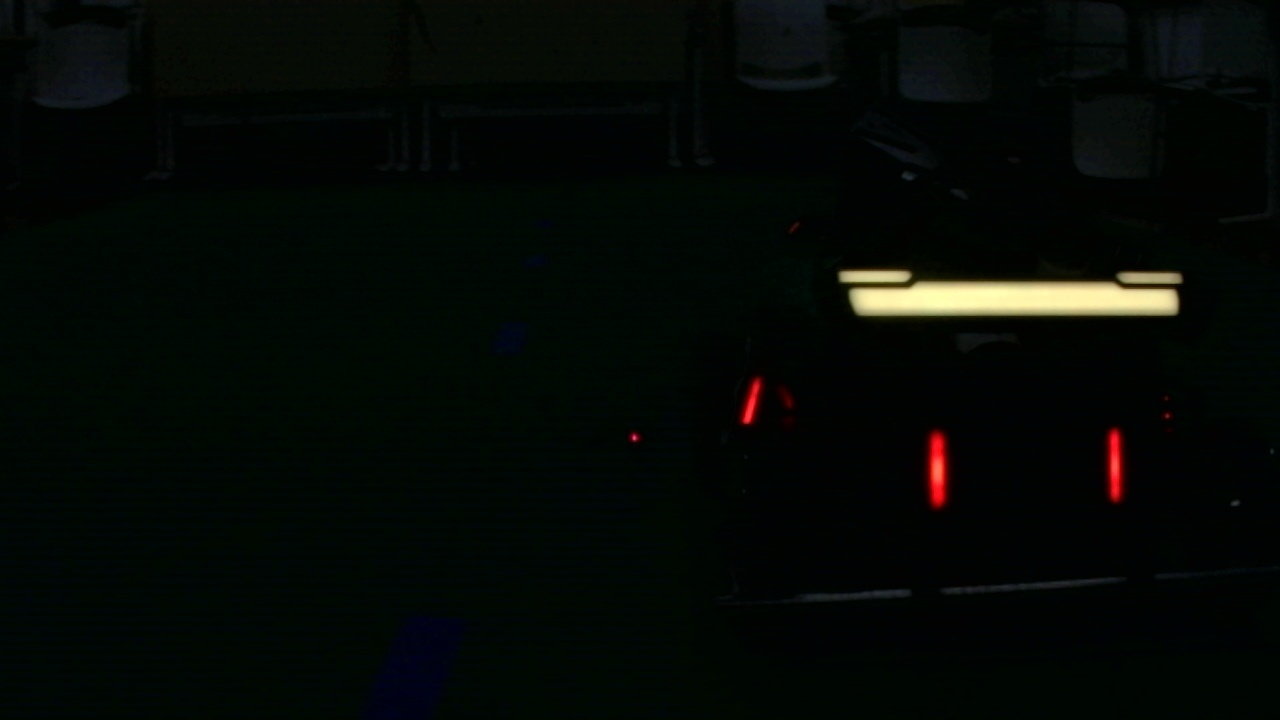lamp: (927, 421, 950, 510), (737, 372, 762, 430), (1105, 425, 1122, 510)
notpair1: (737, 374, 947, 512)
pair1: (928, 426, 1123, 513)
